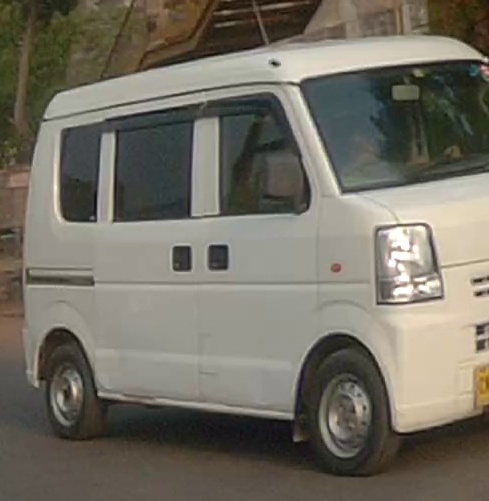van: (22, 34, 489, 476)
